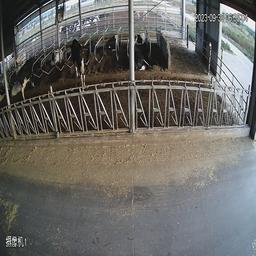cow: (14, 50, 42, 102), (68, 36, 91, 94), (134, 43, 154, 74), (105, 29, 122, 60), (48, 43, 64, 70), (134, 26, 147, 43)
